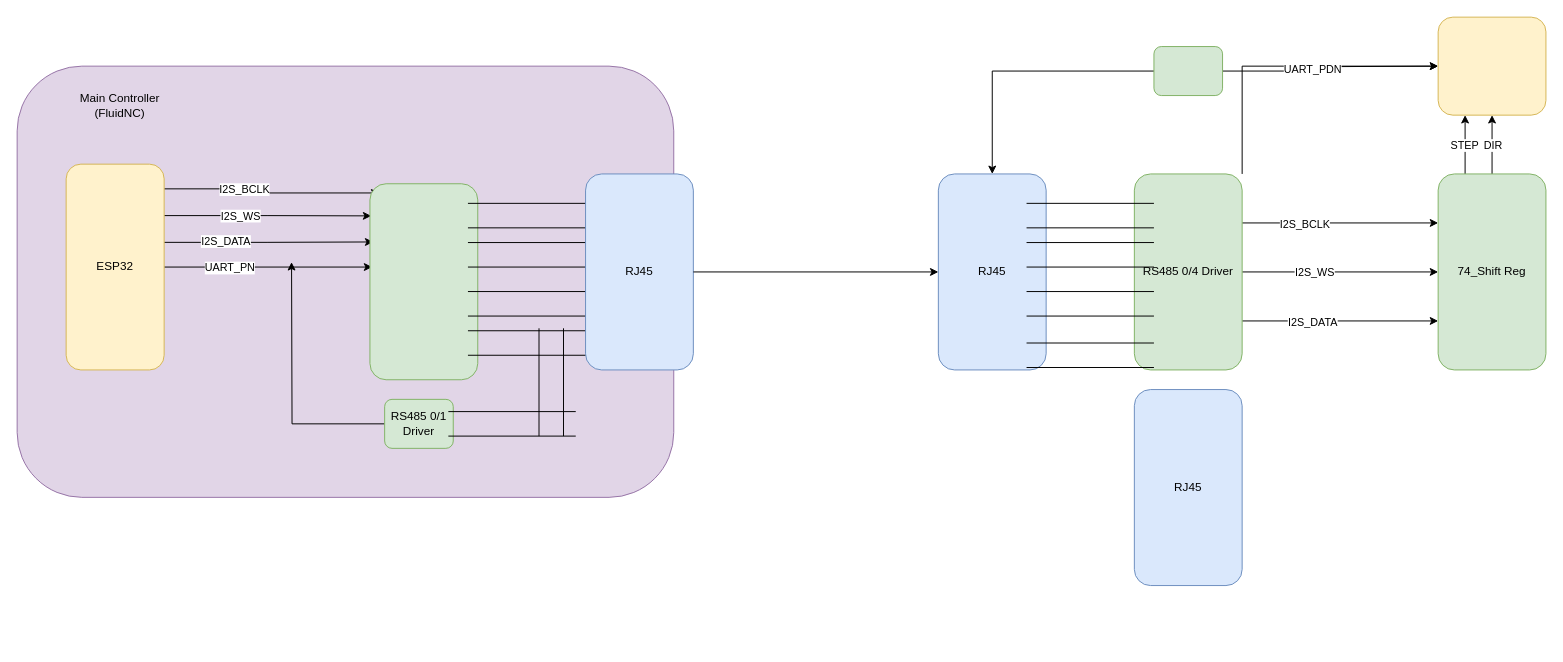
Some shapes in this 1563 by 662 pixel diagram are drawn without their labels. The shapes that lost their labels are listed below. From the top down, each one's centre as x and y in pixels, then its label:
At (x=1188, y=71): "RS485 1/0 Driver".
At (x=1491, y=65): "TMC2209".
At (x=423, y=281): "RS485 4/0 Driver".
